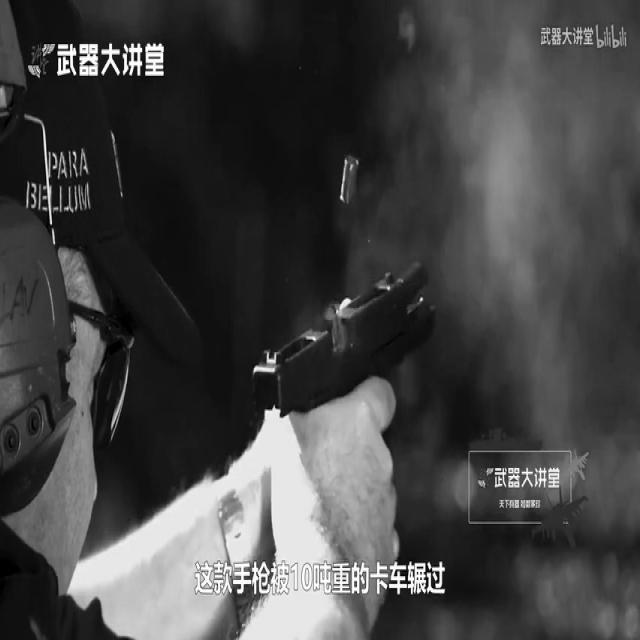Hand-Gun: (224, 196, 490, 607)
